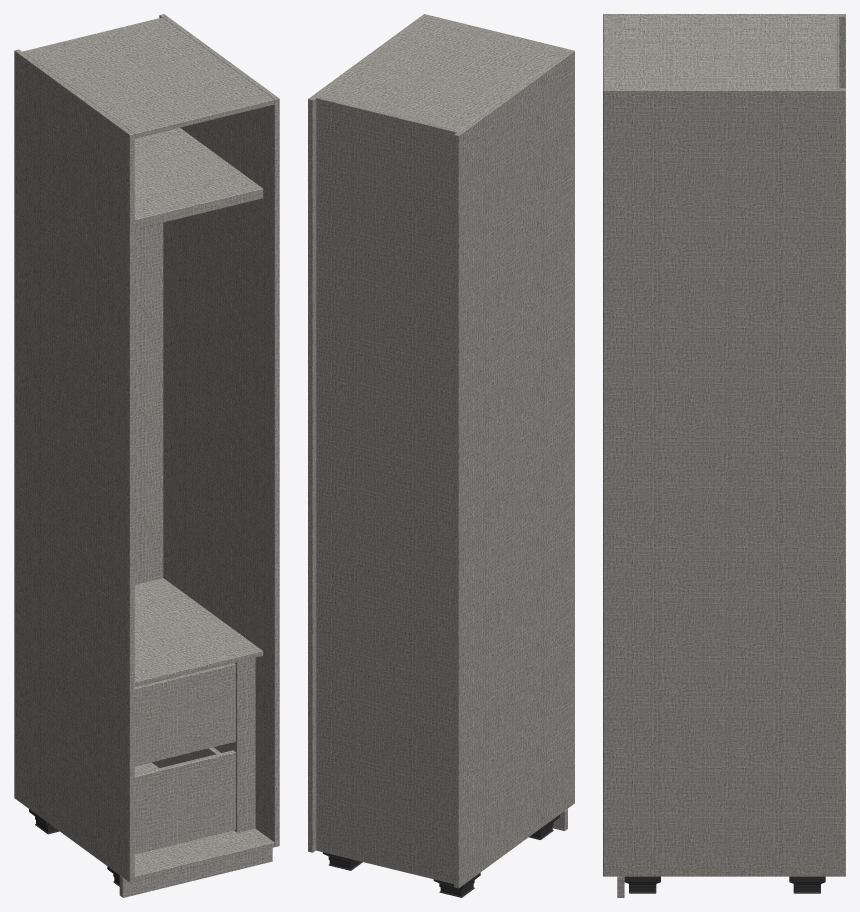
The model's file is cbib12130.gltf.
3 views of the same model, side by side, from view 1: azimuth 30°, elevation 25°; view 2: azimuth 150°, elevation 25°; view 3: azimuth 270°, elevation 25° (orthographic). The views are drawn at different scales.
Parts seen in each view (by area): view 1: CBIB12130; view 2: CBIB12130; view 3: CBIB12130.
Part boxes in pixels (bbox=[...]): CBIB12130: bbox=[14, 14, 279, 897]; CBIB12130: bbox=[308, 14, 574, 897]; CBIB12130: bbox=[603, 14, 845, 897].
Size of the model in its own units: 0.45 by 2.2 by 0.6.
3 materials, 2 textured.
